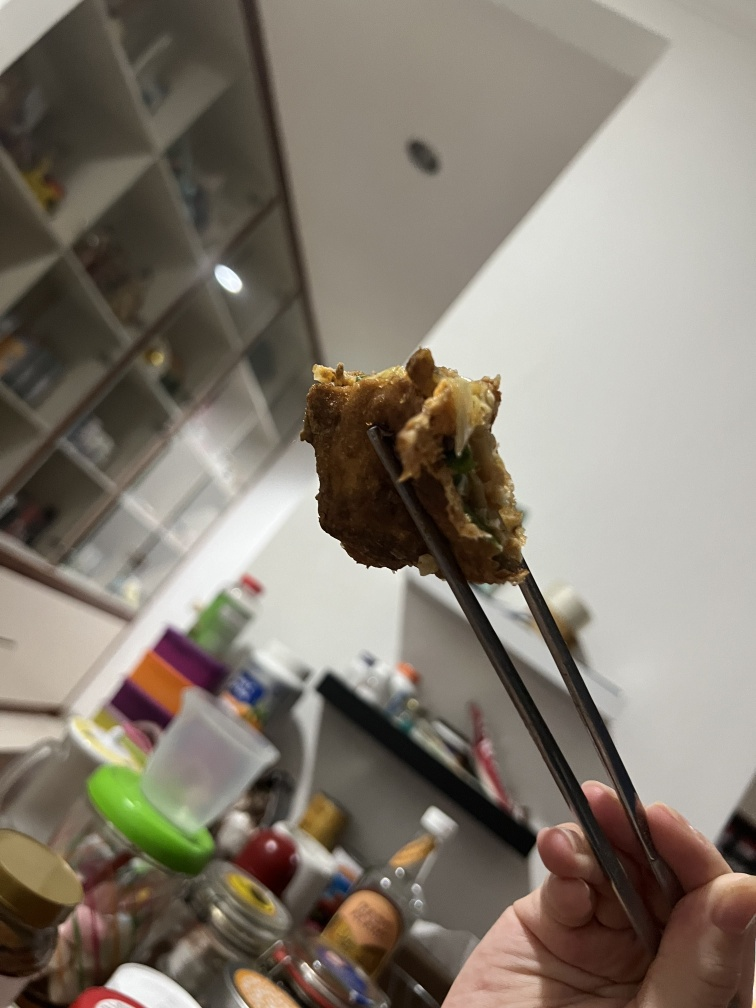martabak telor: (293, 327, 531, 594)
